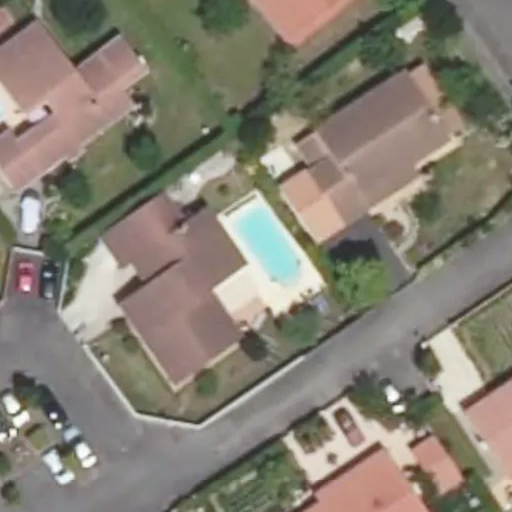pool: (219, 222, 292, 261)
